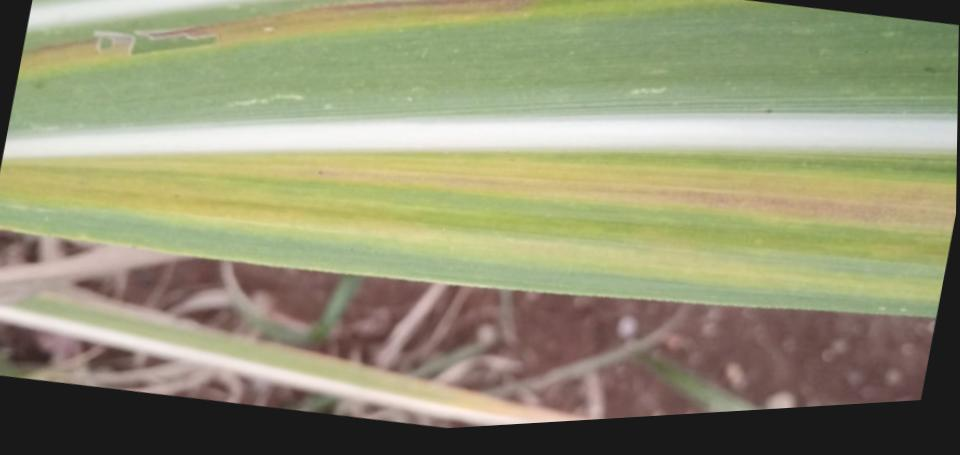Yellow: (0, 152, 956, 235)
